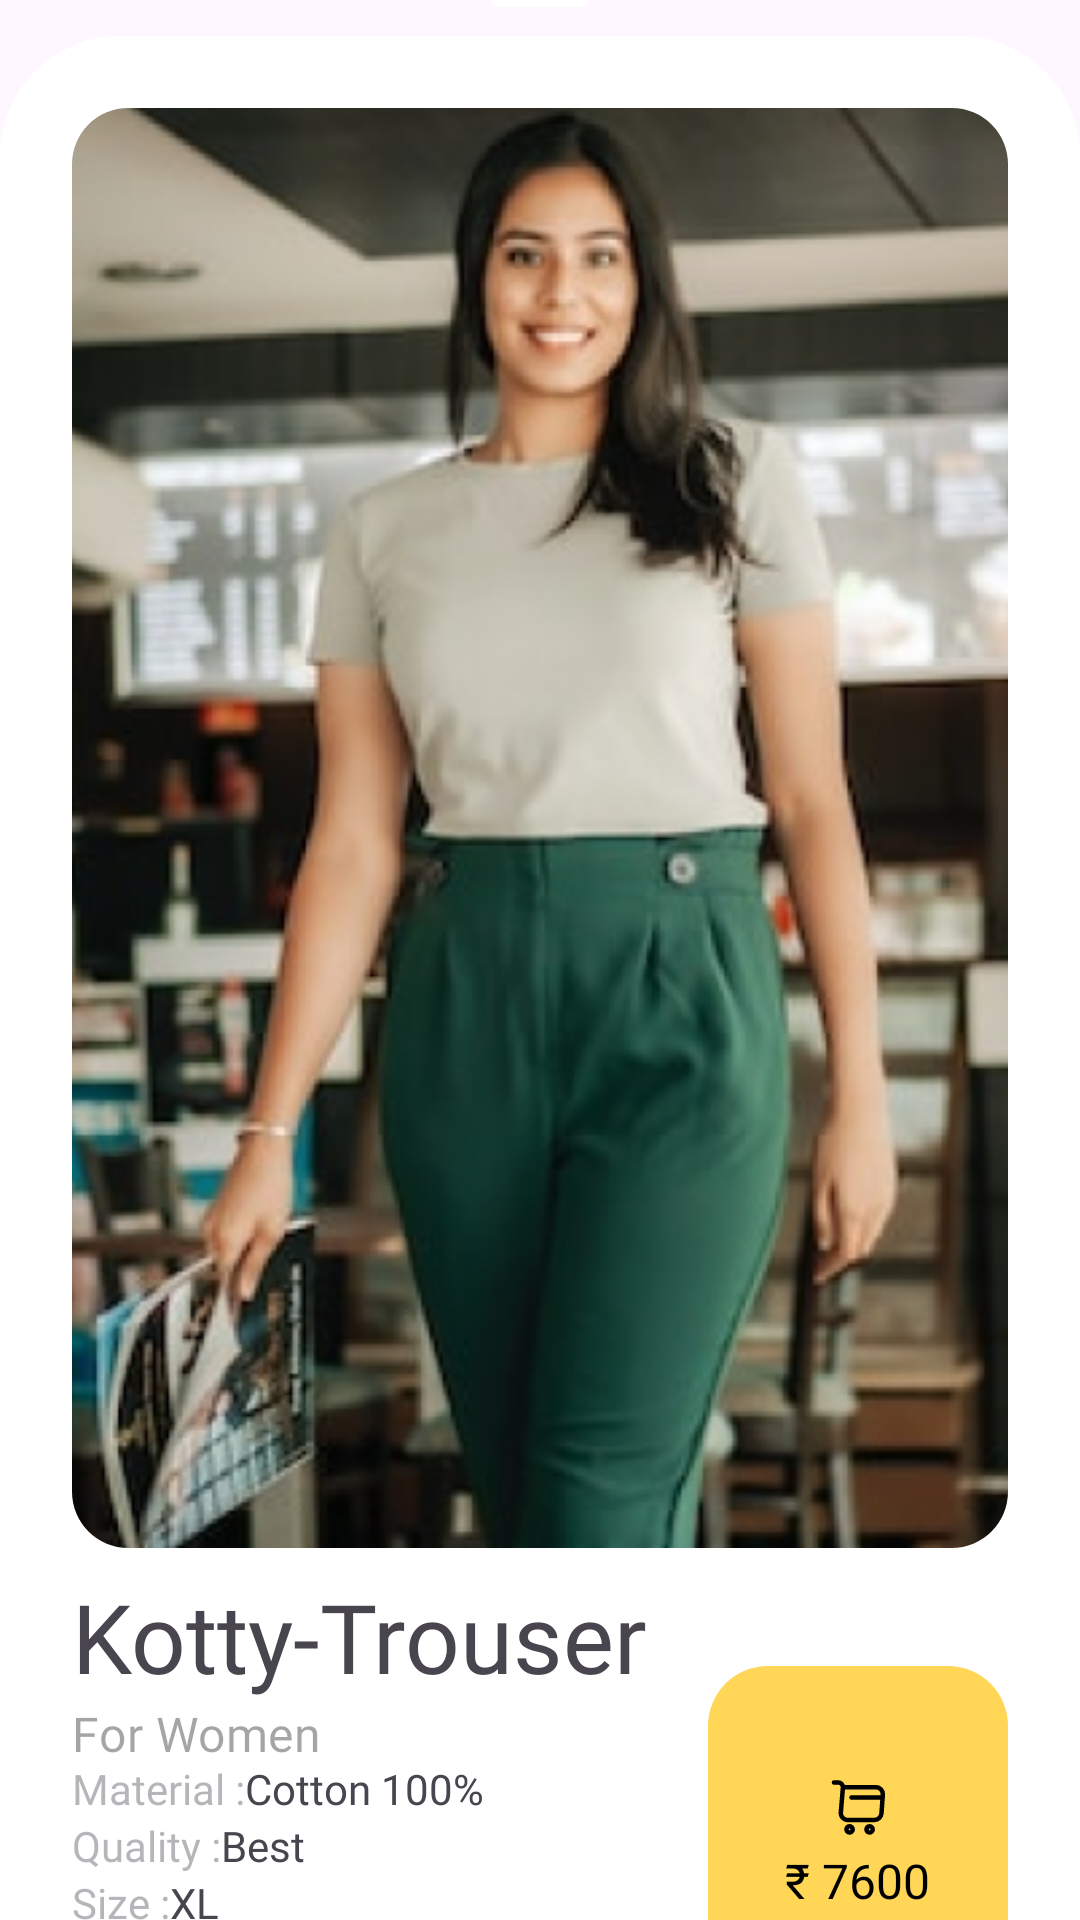

Icon click points for this 1080×1920 phone screenshot, format [x,y]:
kart: [858,1807]
